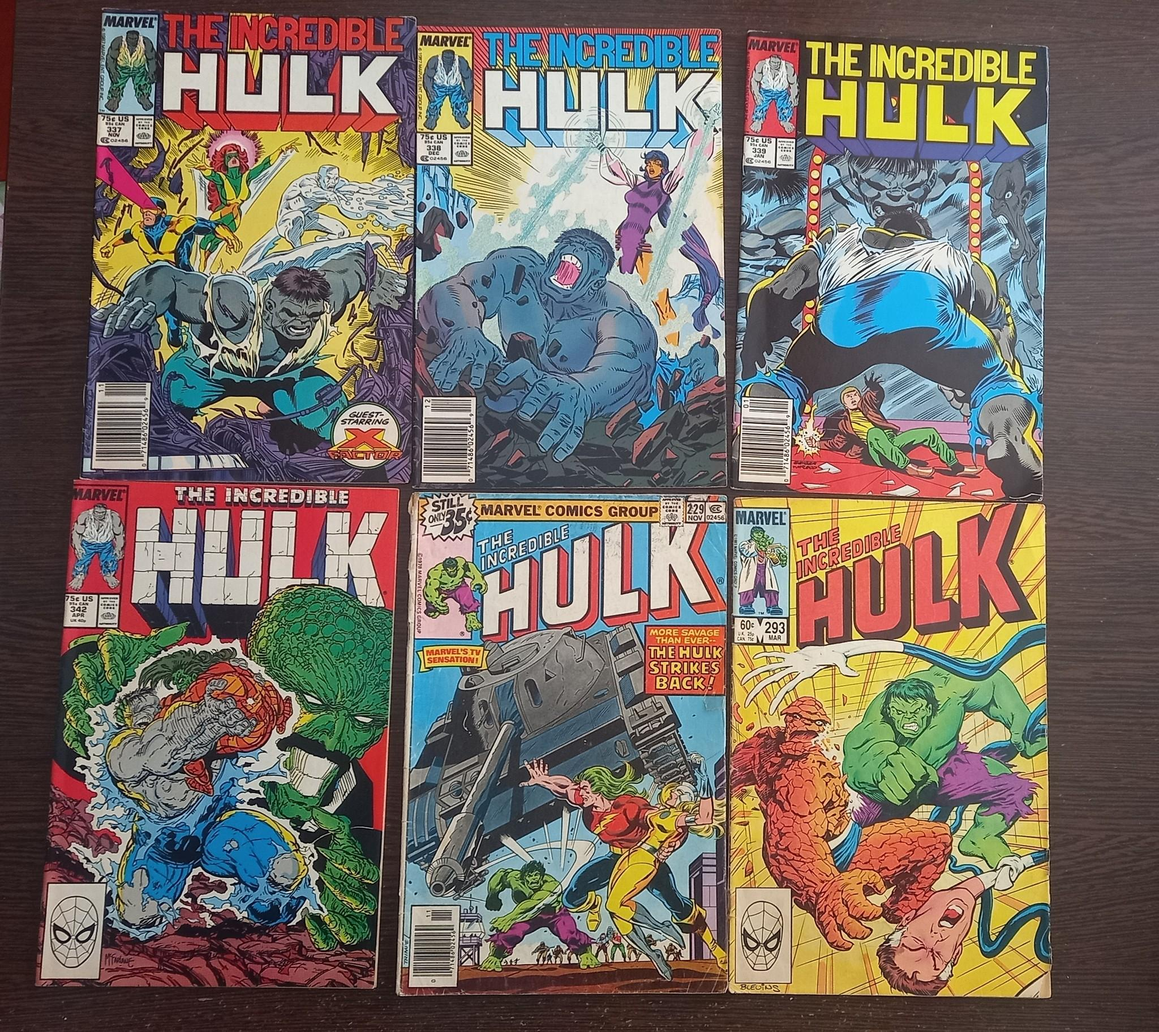comic: (37, 470, 401, 1001), (398, 492, 730, 996), (82, 9, 419, 484), (729, 498, 1050, 996), (733, 34, 1051, 501), (415, 26, 728, 490)
